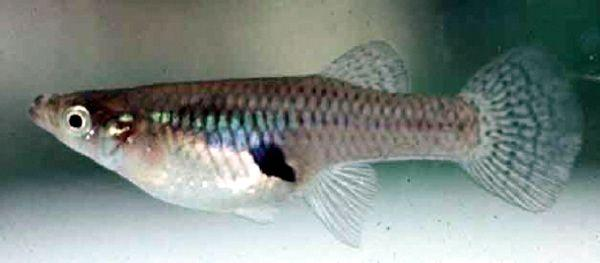Mosquito Fish: (29, 38, 582, 251)
